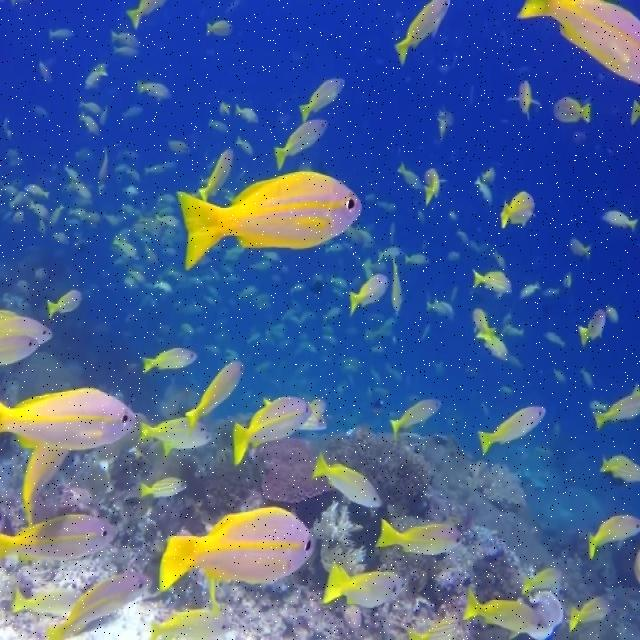fish: (177, 170, 363, 272), (159, 503, 315, 594), (515, 0, 639, 83), (0, 384, 135, 453), (45, 572, 153, 639), (231, 392, 314, 464), (0, 514, 114, 560), (318, 557, 409, 608), (185, 360, 246, 436), (310, 452, 384, 511), (464, 587, 547, 638), (393, 0, 451, 67), (373, 520, 464, 559), (478, 406, 546, 457), (21, 452, 68, 524), (272, 118, 328, 171), (140, 416, 212, 457), (151, 609, 229, 639), (590, 516, 639, 561), (588, 388, 639, 431), (12, 586, 81, 617), (298, 79, 348, 119), (390, 396, 440, 436), (346, 274, 390, 315), (0, 308, 51, 343), (200, 148, 234, 198), (569, 595, 611, 631), (596, 451, 639, 485), (141, 347, 197, 373), (507, 77, 543, 116), (139, 475, 188, 503), (499, 191, 536, 228), (576, 308, 608, 348), (472, 269, 515, 296), (47, 288, 82, 321), (556, 94, 592, 124), (0, 337, 37, 363)
